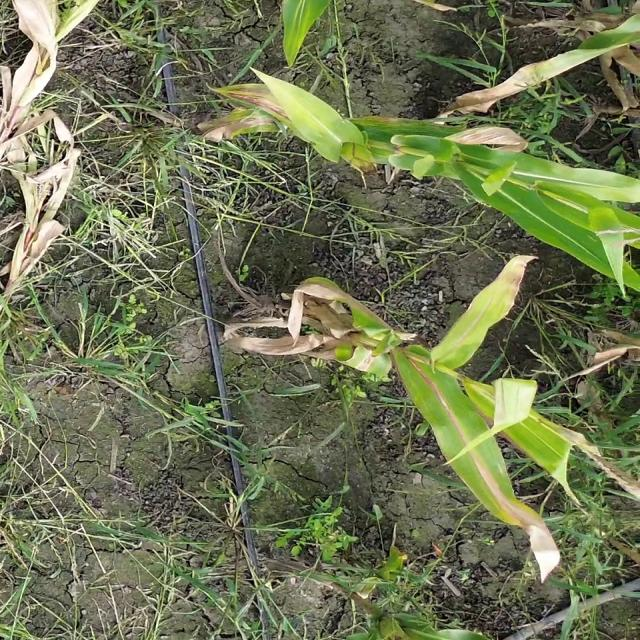northern-leaf-blight: (427, 393, 519, 522), (226, 76, 290, 111), (459, 297, 495, 347), (216, 114, 282, 137), (357, 349, 392, 379)
